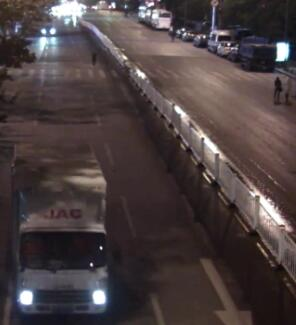bus: (147, 4, 174, 31)
car: (7, 137, 111, 319), (210, 26, 229, 49), (217, 39, 237, 56), (40, 22, 56, 35)
